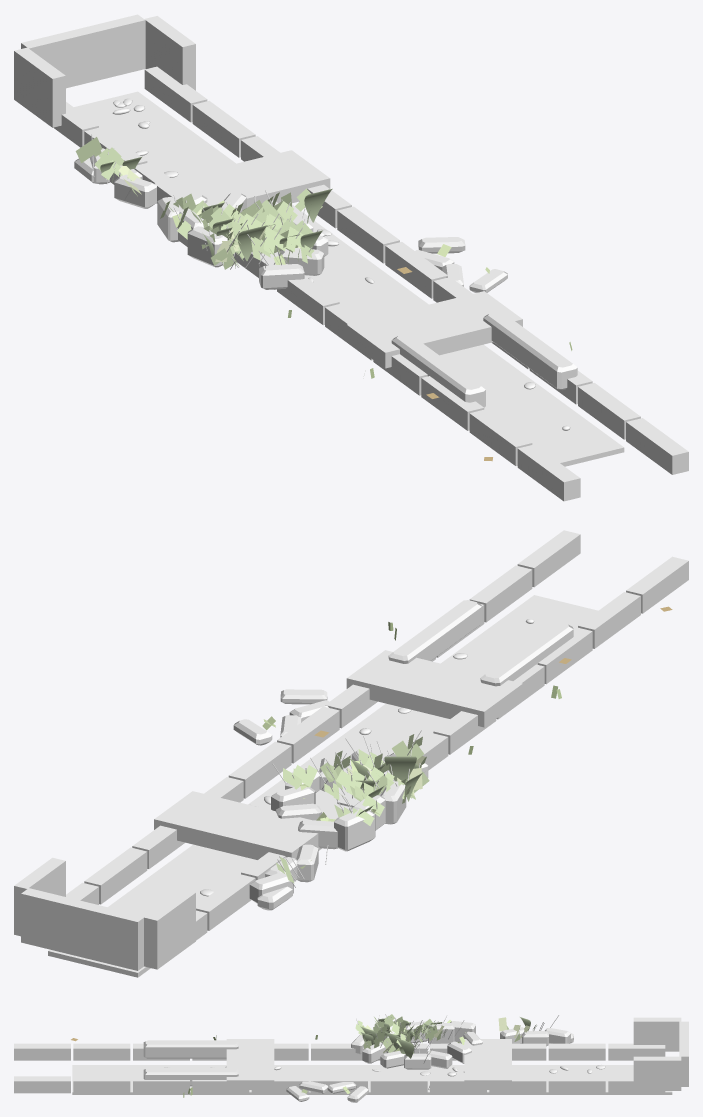
File: camp_channel.glb
3 renders of one model, top to bottom at view 1: azimuth 30°, elevation 25°; view 2: azimuth 150°, elevation 25°; view 3: azimuth 270°, elevation 25°, orthographic. The views are drawn at different scales.
Visible parts, largest first — view 1: camp_channel__sandstone, camp_channel__hearth_stone, camp_channel__limestone, camp_channel__brick, camp_channel__foliage_ivy_leaf, camp_channel__foliage_fern, camp_channel__foliage_tree_leaf; view 2: camp_channel__sandstone, camp_channel__hearth_stone, camp_channel__limestone, camp_channel__brick, camp_channel__foliage_ivy_leaf, camp_channel__foliage_fern, camp_channel__vine, camp_channel__foliage_tree_leaf; view 3: camp_channel__sandstone, camp_channel__limestone, camp_channel__hearth_stone, camp_channel__brick, camp_channel__foliage_ivy_leaf, camp_channel__foliage_fern, camp_channel__foliage_tree_leaf, camp_channel__vine.
Part boxes in pixels (x1,y1,x2,y2): camp_channel__sandstone: (53,66,688,501); camp_channel__hearth_stone: (74,91,624,466); camp_channel__limestone: (74,148,577,407); camp_channel__brick: (14,14,195,127); camp_channel__foliage_ivy_leaf: (75,137,492,461); camp_channel__foliage_fern: (100,156,332,268); camp_channel__foliage_tree_leaf: (118,166,489,273); camp_channel__sandstone: (66,530,688,940); camp_channel__hearth_stone: (48,595,597,977); camp_channel__limestone: (233,600,573,910); camp_channel__brick: (14,857,195,970); camp_channel__foliage_ivy_leaf: (276,606,672,883); camp_channel__foliage_fern: (348,756,422,815); camp_channel__vine: (272,730,421,887); camp_channel__foliage_tree_leaf: (262,716,425,868); camp_channel__sandstone: (14,1039,665,1093); camp_channel__limestone: (143,1021,573,1102); camp_channel__hearth_stone: (72,1065,672,1094); camp_channel__brick: (633,1017,688,1090); camp_channel__foliage_ivy_leaf: (71,1014,536,1052); camp_channel__foliage_fern: (360,1017,530,1058); camp_channel__foliage_tree_leaf: (301,1017,529,1093); camp_channel__vine: (356,1014,558,1063).
Size of the model in its own units: 2.9 by 0.8731 by 11.36.
